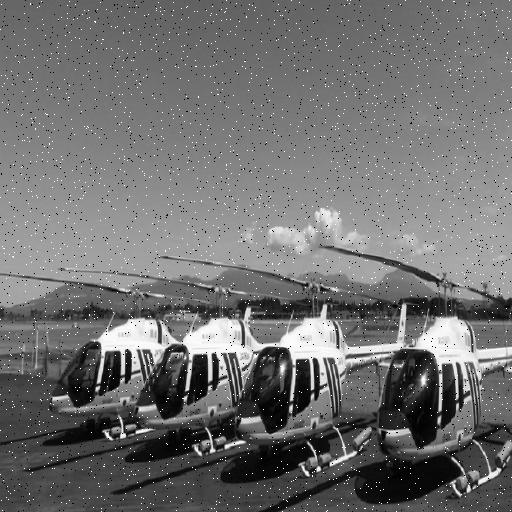helicopter: (191, 222, 411, 512), (348, 208, 512, 512), (106, 267, 291, 512), (24, 262, 191, 457)
